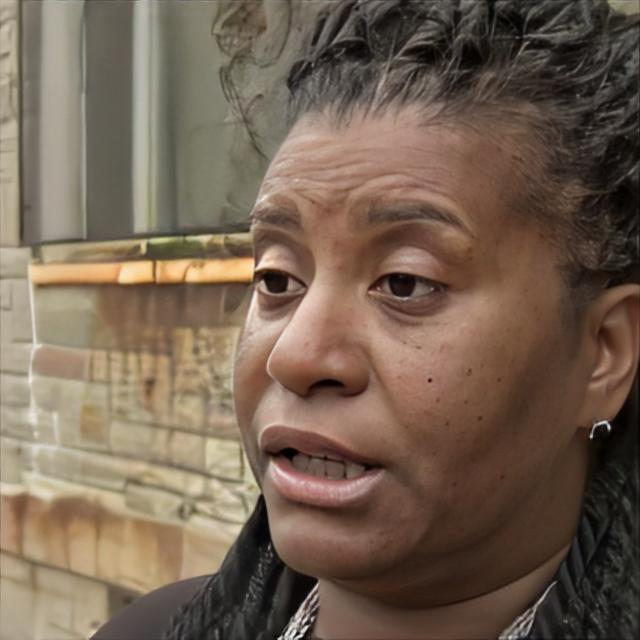sad: (231, 98, 583, 582)
